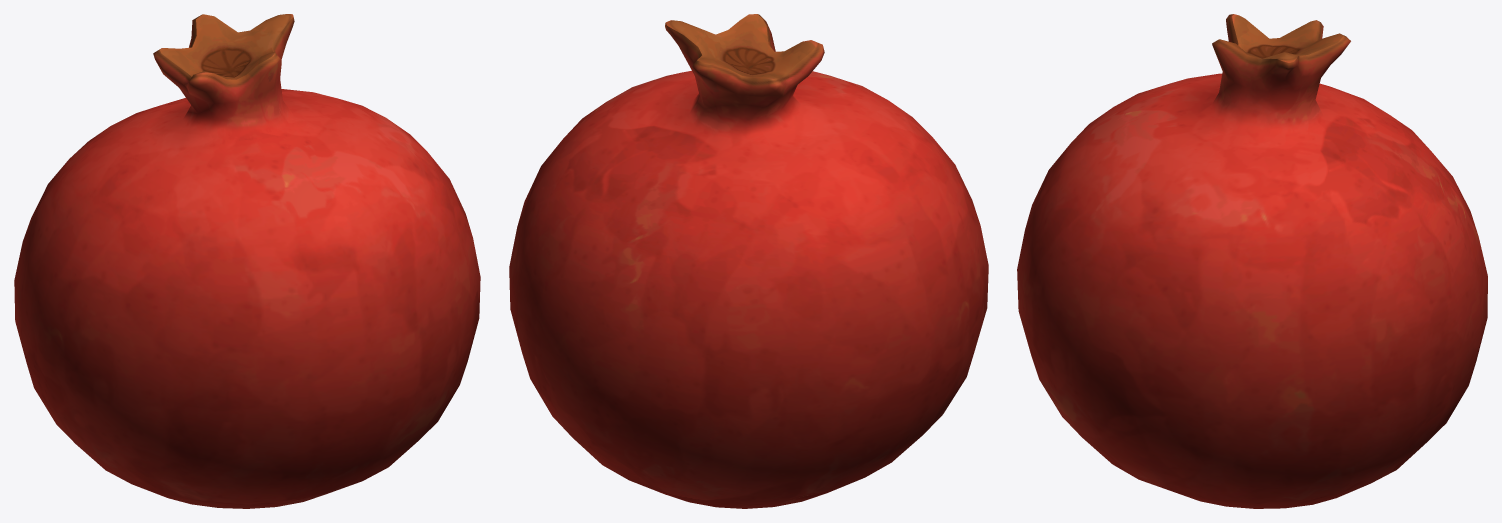
The model's file is SM_Pomegranate.fbx.
3 renders of one model, left to right at view 1: azimuth 30°, elevation 25°; view 2: azimuth 150°, elevation 25°; view 3: azimuth 270°, elevation 25°, orthographic. The views are drawn at different scales.
Parts seen in each view (by area): view 1: SM_Pomegranate; view 2: SM_Pomegranate; view 3: SM_Pomegranate.
Boxes of the visible parts, <box> form: SM_Pomegranate: <box>14,14,480,508</box>; SM_Pomegranate: <box>509,14,988,508</box>; SM_Pomegranate: <box>1017,14,1487,508</box>.
Size of the model in its own units: 18.84 by 19.92 by 18.61.
